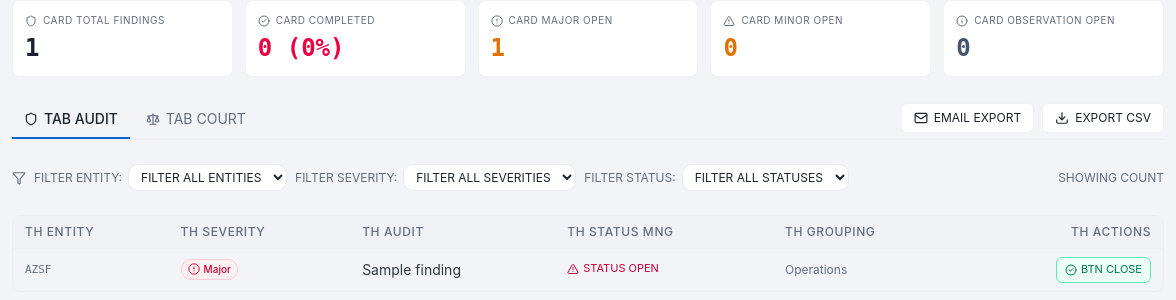
ComplianceHub close/reopen toggle › clicking Close PATCHes the endpoint and flips the button to Reopen
This screenshot has width=1176, height=300.
Click the button with test id "finding-toggle-AZSEKER-AZSF-0": (1103, 270) [1056, 257, 1151, 283]
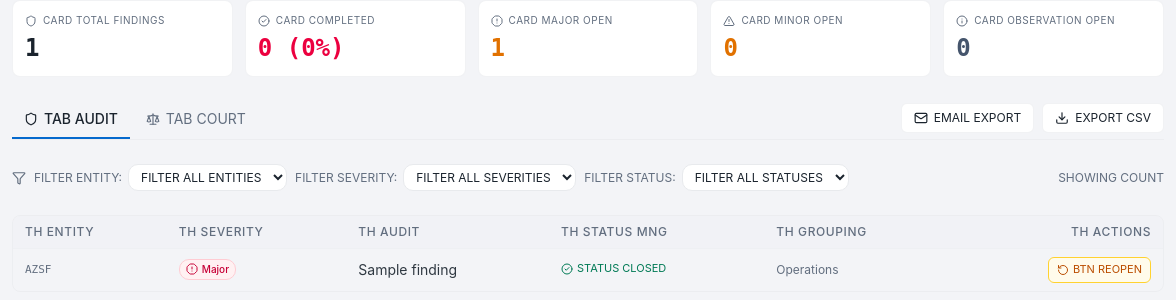
expect the button with test id "finding-toggle-AZSEKER-AZSF-0" reads "BTN REOPEN": met, box [1048, 257, 1151, 283]
